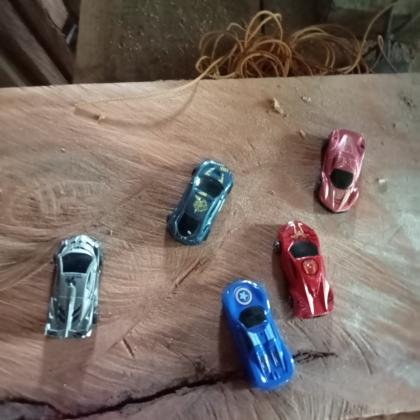Car: (219, 277, 296, 392), (41, 234, 104, 340), (273, 219, 334, 322), (165, 158, 235, 246), (314, 128, 368, 214)
